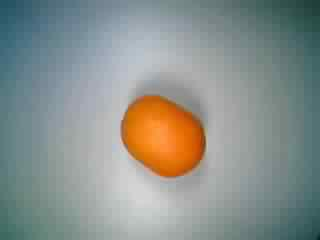orange: (115, 87, 206, 183)
